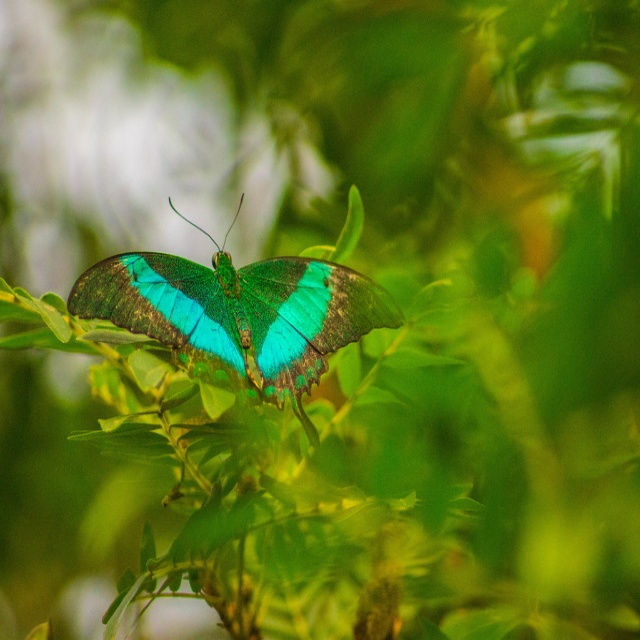Butterfly: (66, 192, 407, 447)
